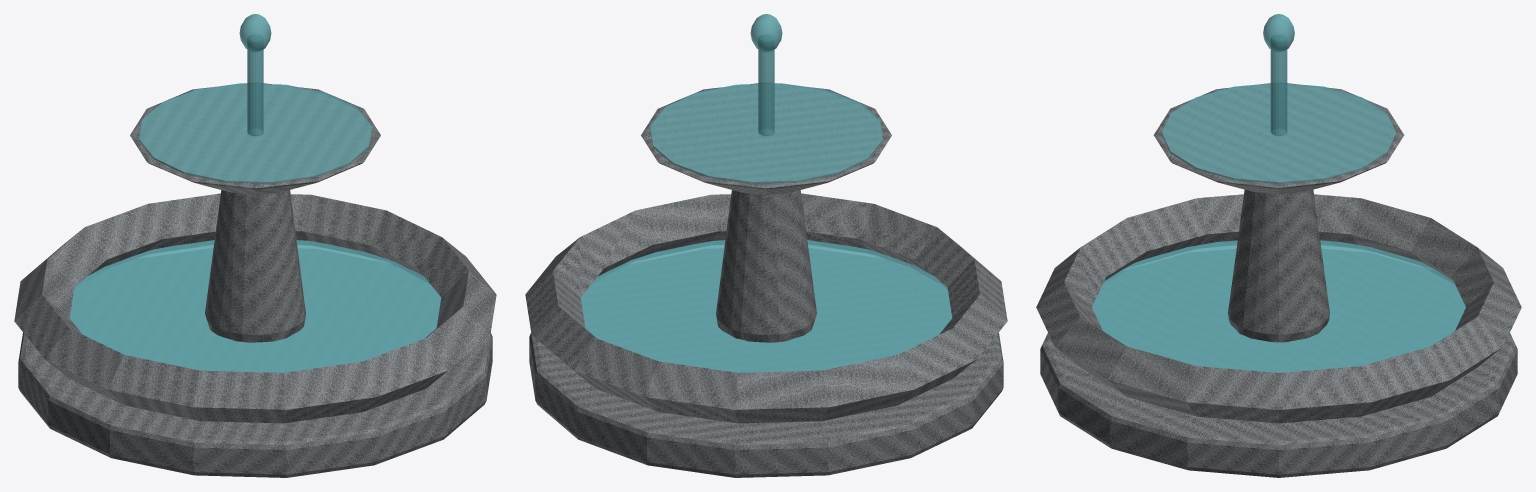
The model's file is fountain.glb.
The picture shows the model from 3 angles, left to right: view 1: azimuth 30°, elevation 25°; view 2: azimuth 150°, elevation 25°; view 3: azimuth 270°, elevation 25°; orthographic projection.
Visible parts, largest first — view 1: basin_rim, water, base, upper_bowl, upper_water, pedestal, jet, jet_tip; view 2: basin_rim, water, base, upper_bowl, upper_water, pedestal, jet, jet_tip; view 3: basin_rim, water, base, upper_bowl, upper_water, pedestal, jet, jet_tip.
Part boxes in pixels (left/top/right/bottom): basin_rim: left=14, top=193, right=496, bottom=423; water: left=69, top=240, right=441, bottom=372; base: left=18, top=332, right=492, bottom=477; upper_bowl: left=130, top=83, right=380, bottom=195; upper_water: left=139, top=83, right=371, bottom=183; pedestal: left=205, top=190, right=305, bottom=342; jet: left=247, top=34, right=263, bottom=136; jet_tip: left=239, top=14, right=271, bottom=52; basin_rim: left=525, top=193, right=1007, bottom=423; water: left=580, top=240, right=952, bottom=372; base: left=529, top=332, right=1003, bottom=477; upper_bowl: left=641, top=83, right=891, bottom=195; upper_water: left=650, top=83, right=882, bottom=183; pedestal: left=716, top=190, right=816, bottom=342; jet: left=758, top=34, right=774, bottom=136; jet_tip: left=750, top=14, right=782, bottom=52; basin_rim: left=1036, top=194, right=1521, bottom=423; water: left=1092, top=240, right=1465, bottom=372; base: left=1040, top=333, right=1517, bottom=477; upper_bowl: left=1153, top=83, right=1404, bottom=194; upper_water: left=1161, top=83, right=1396, bottom=183; pedestal: left=1228, top=190, right=1329, bottom=342; jet: left=1270, top=34, right=1287, bottom=136; jet_tip: left=1263, top=14, right=1294, bottom=51.
Bounding box in the file's own units: 2.44 × 2.02 × 2.44.
2 materials, 1 textured.
